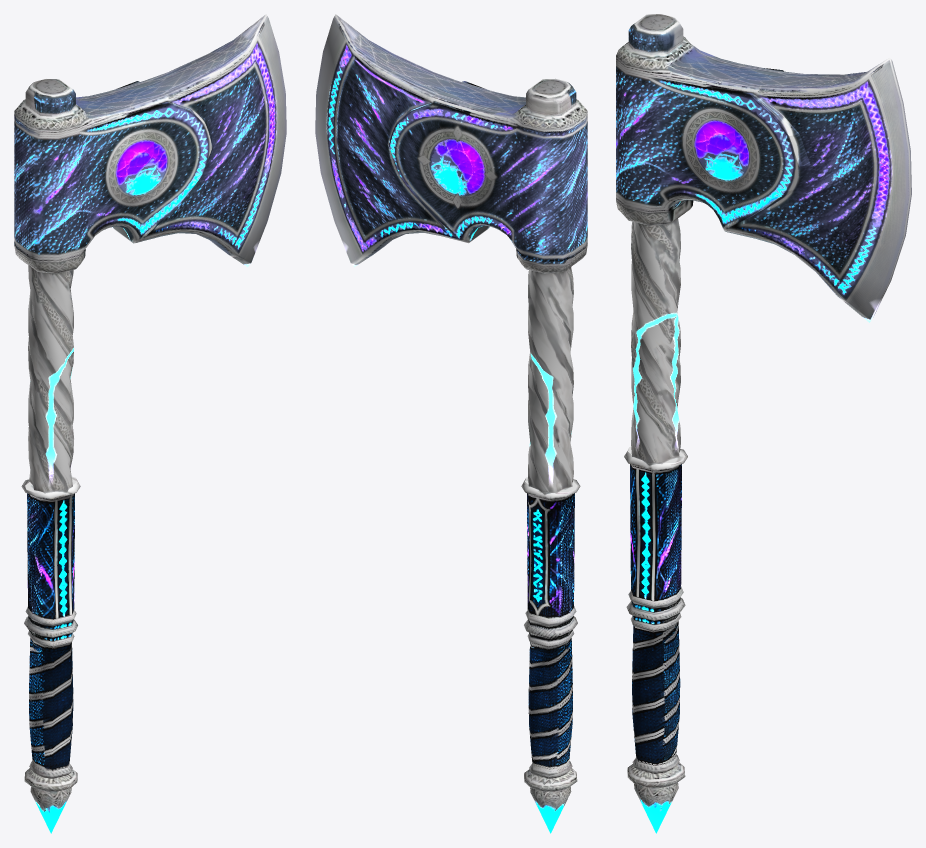
Rendered from w_waraxe_t4.glb.
The picture shows the model from 3 angles, left to right: view 1: azimuth 30°, elevation 25°; view 2: azimuth 150°, elevation 25°; view 3: azimuth 330°, elevation 25°; orthographic projection. The views are drawn at different scales.
Parts seen in each view (by area): view 1: WarAxe:0; view 2: WarAxe:0; view 3: WarAxe:0.
Boxes of the visible parts, bbox=[...] form: WarAxe:0: bbox=[14, 14, 286, 833]; WarAxe:0: bbox=[315, 14, 587, 833]; WarAxe:0: bbox=[616, 14, 911, 833].
Size of the model in its own units: 17.27 by 48.23 by 4.05.
1 material, 1 textured.
